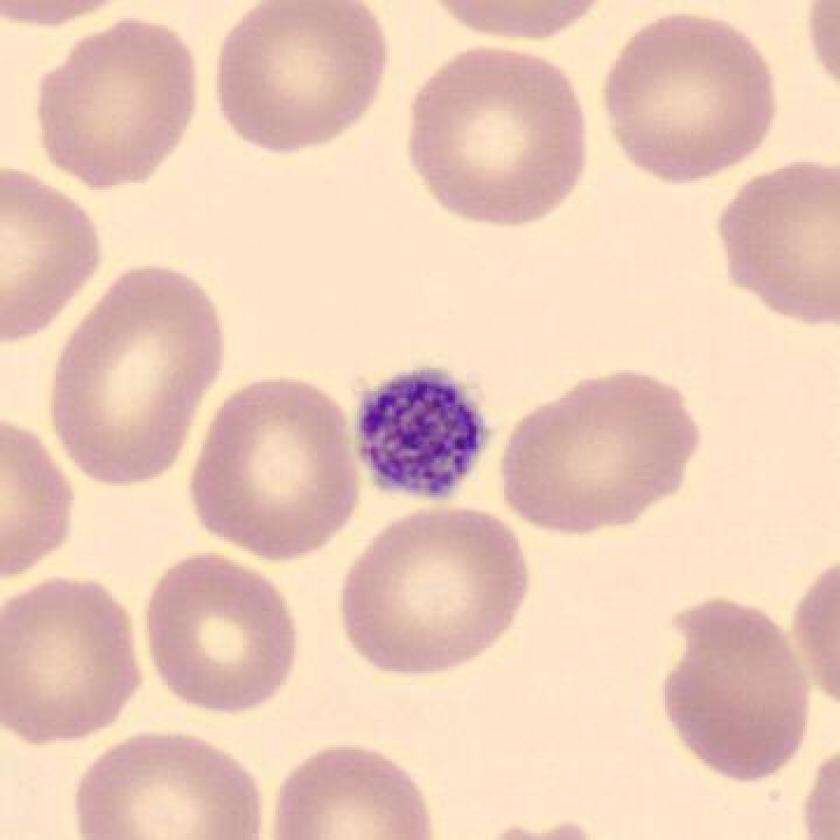platelets: (353, 362, 496, 512)
